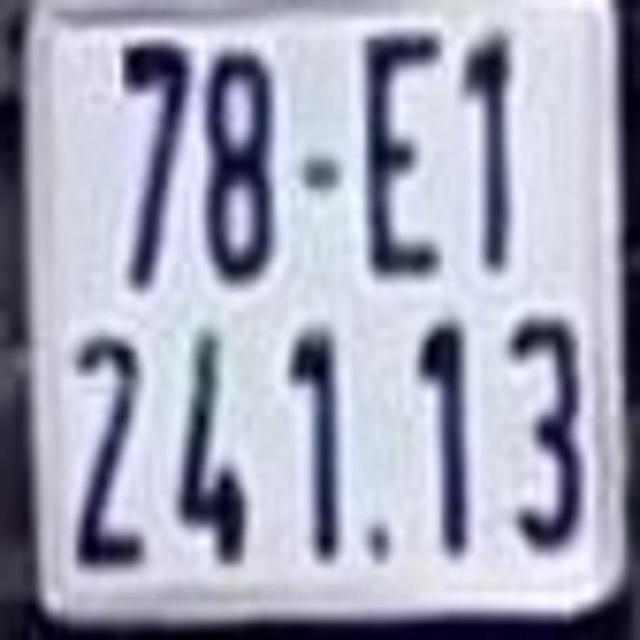1: (411, 312, 494, 570), (276, 316, 360, 566), (453, 32, 532, 276)
2: (70, 329, 148, 577)
3: (509, 305, 588, 554)
4: (171, 329, 253, 578)
7: (116, 26, 190, 293)
8: (198, 38, 278, 284)
E: (361, 21, 446, 284)
